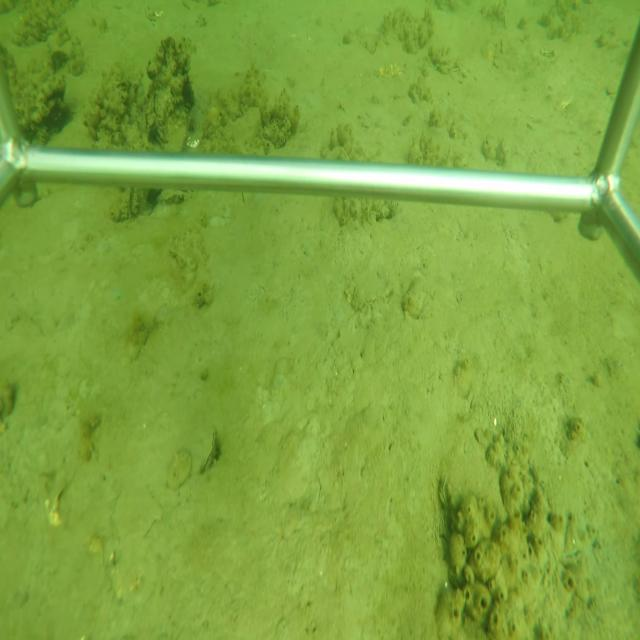Oyster-Closed: (200, 423, 219, 479)
Oyster-Indeterminate: (199, 104, 262, 153)
